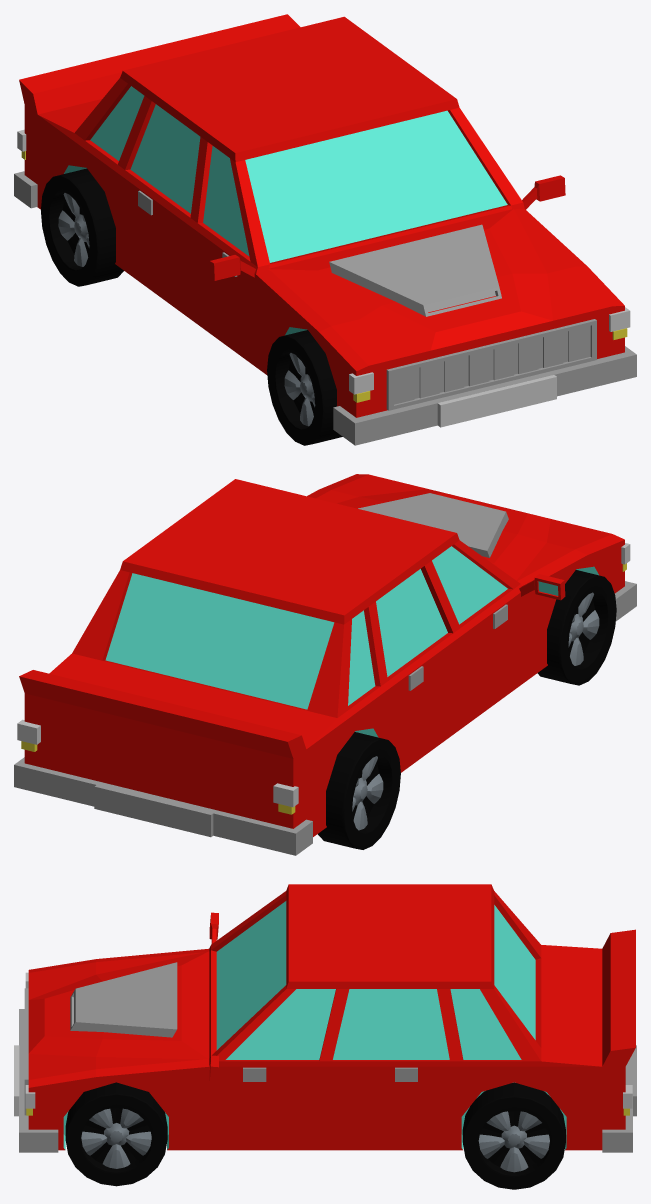
File: car4_H.fbx
The picture shows the model from 3 angles, top to bottom: view 1: azimuth 30°, elevation 25°; view 2: azimuth 150°, elevation 25°; view 3: azimuth 270°, elevation 25°; orthographic projection. The views are drawn at different scales.
Visible parts, largest first — view 1: Cube.008, Cylinder.018, Cylinder.017; view 2: Cube.008, Cylinder.018, Cylinder.017; view 3: Cube.008, Cylinder.018, Cylinder.017.
Part boxes in pixels (x1=…): Cube.008: x1=14, y1=14, x2=636, y2=445; Cylinder.018: x1=41, y1=168, x2=123, y2=286; Cylinder.017: x1=267, y1=330, x2=342, y2=445; Cube.008: x1=14, y1=474, x2=636, y2=855; Cylinder.018: x1=317, y1=732, x2=400, y2=849; Cylinder.017: x1=537, y1=570, x2=616, y2=685; Cube.008: x1=14, y1=884, x2=636, y2=1152; Cylinder.018: x1=462, y1=1082, x2=565, y2=1189; Cylinder.017: x1=65, y1=1082, x2=167, y2=1186.
Size of the model in its own units: 1.89 by 3.23 by 1.09.
